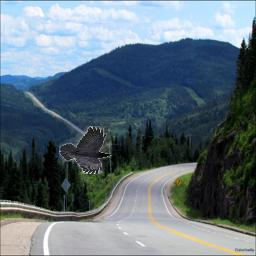Crow: (60, 126, 113, 174)
